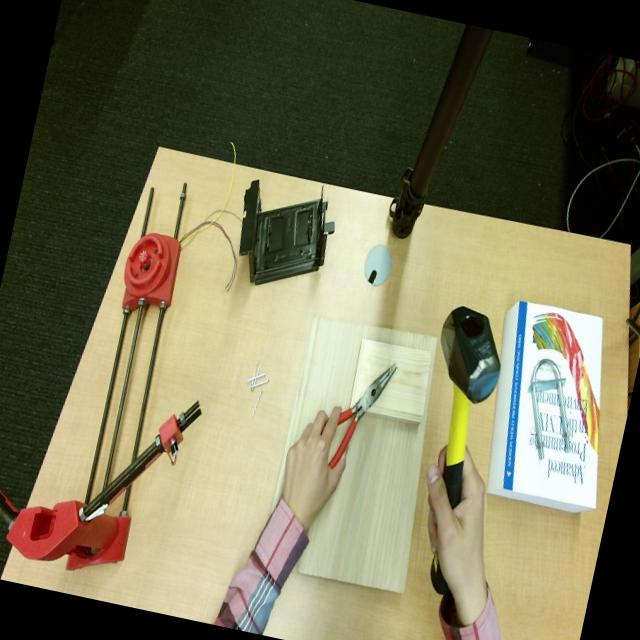pliers: (328, 363, 396, 468)
